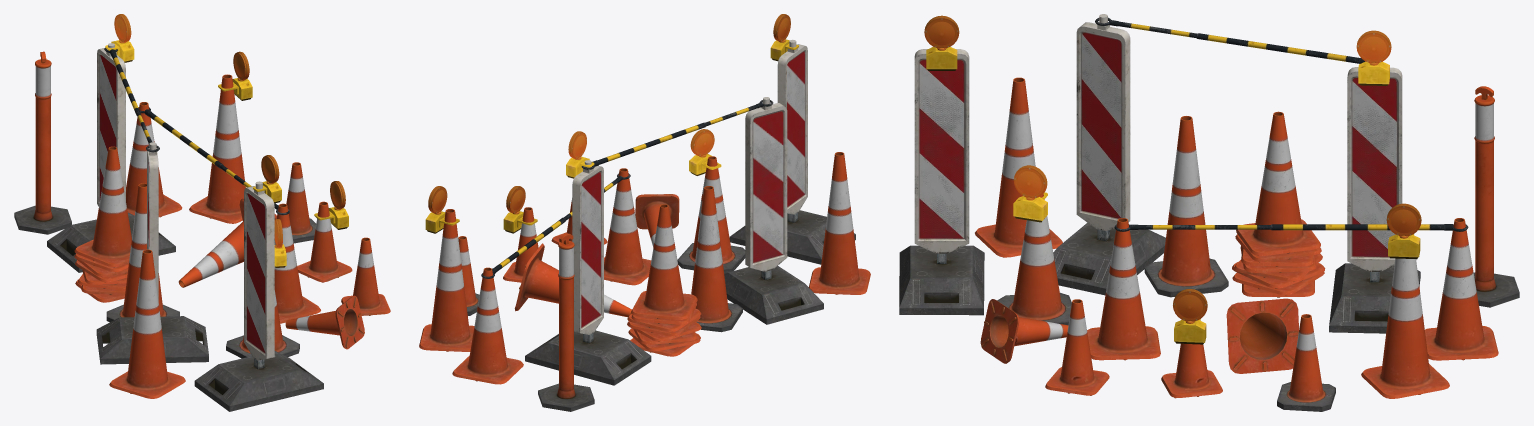
File: pCones.glb
The picture shows the model from 3 angles, left to right: view 1: azimuth 30°, elevation 25°; view 2: azimuth 150°, elevation 25°; view 3: azimuth 270°, elevation 25°; orthographic projection. The views are drawn at different scales.
Parts seen in each view (by area): view 1: Vertical_Panel_1.001_Cones_Mat_0, Collar_2.002_Cones_Mat_wEmissive_0; view 2: Vertical_Panel_1.001_Cones_Mat_0, Collar_2.002_Cones_Mat_wEmissive_0; view 3: Vertical_Panel_1.001_Cones_Mat_0, Collar_2.002_Cones_Mat_wEmissive_0.
Part boxes in pixels (<box>): Vertical_Panel_1.001_Cones_Mat_0: <box>14,43,390,411</box>; Collar_2.002_Cones_Mat_wEmissive_0: <box>105,14,286,267</box>; Vertical_Panel_1.001_Cones_Mat_0: <box>419,14,870,411</box>; Collar_2.002_Cones_Mat_wEmissive_0: <box>566,129,721,178</box>; Vertical_Panel_1.001_Cones_Mat_0: <box>899,14,1519,411</box>; Collar_2.002_Cones_Mat_wEmissive_0: <box>1013,30,1391,222</box>.
Size of the model in its own units: 2.38 by 1.65 by 3.29.
Materials: 2 (2 with a texture image).
